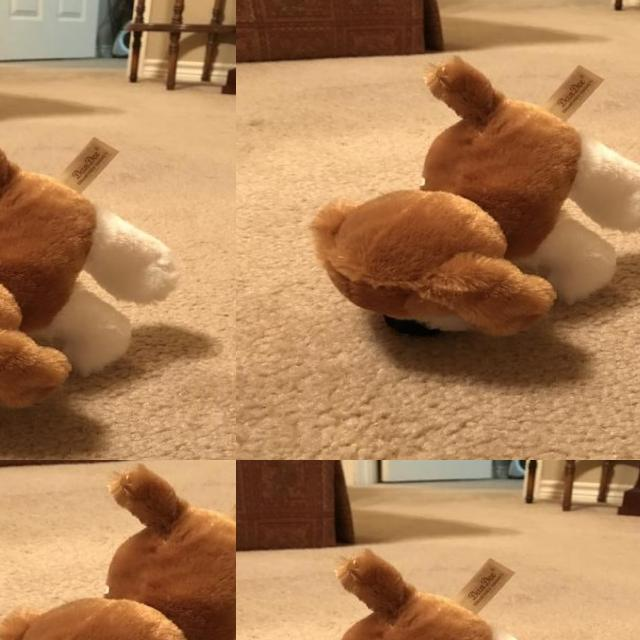toy: (236, 545, 582, 640), (60, 79, 236, 120), (551, 165, 640, 213), (0, 239, 74, 285), (0, 162, 24, 226), (530, 202, 584, 228), (145, 112, 194, 140), (353, 171, 395, 196), (406, 192, 440, 214), (67, 67, 98, 84), (95, 66, 119, 85), (559, 139, 589, 154), (39, 72, 65, 85)
